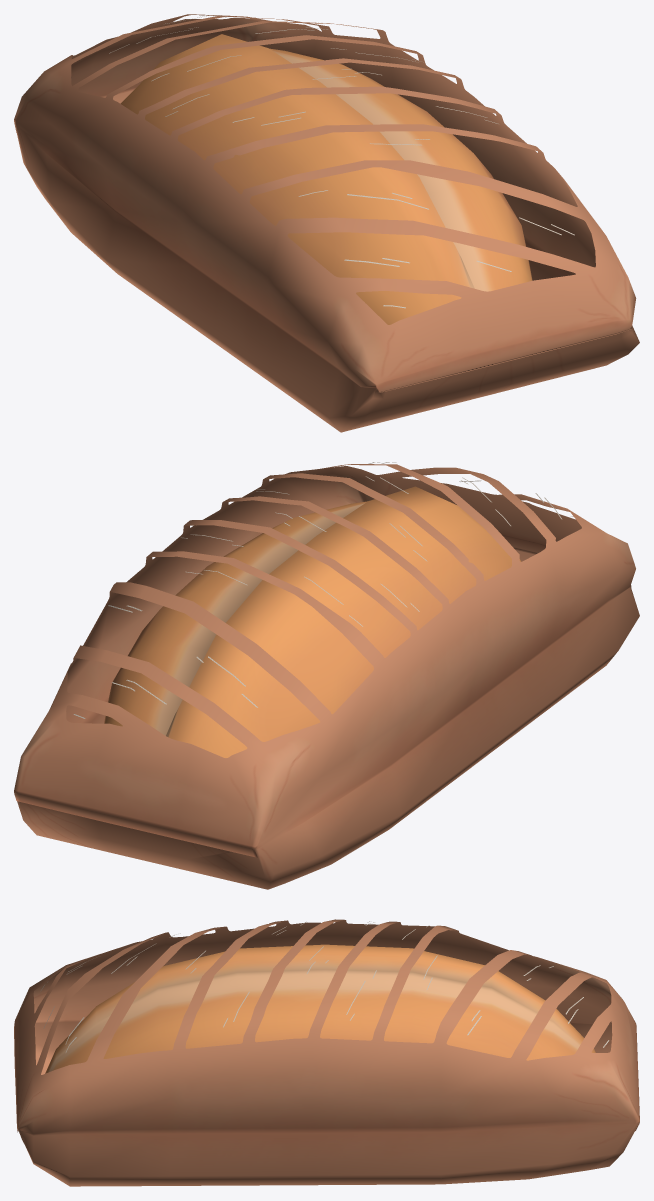
File: bread_pocket_0.fbx
The picture shows the model from 3 angles, top to bottom: view 1: azimuth 30°, elevation 25°; view 2: azimuth 150°, elevation 25°; view 3: azimuth 270°, elevation 25°; orthographic projection. The views are drawn at different scales.
Parts seen in each view (by area): view 1: pie_in_the_packet_02.001; view 2: pie_in_the_packet_02.001; view 3: pie_in_the_packet_02.001.
Boxes of the visible parts, bbox=[...] form: pie_in_the_packet_02.001: bbox=[14, 14, 639, 432]; pie_in_the_packet_02.001: bbox=[14, 462, 639, 889]; pie_in_the_packet_02.001: bbox=[14, 919, 639, 1186].
Bounding box in the file's own units: 15.91 × 10.79 × 33.87.
